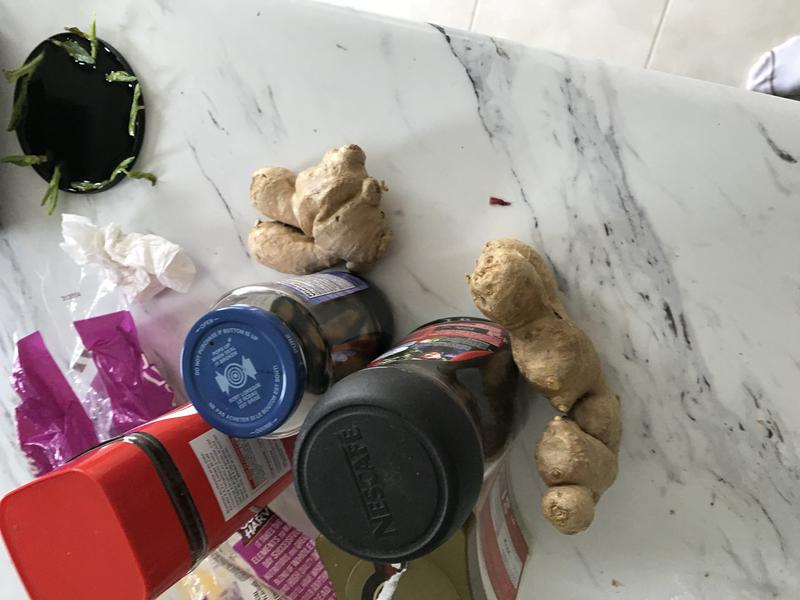ginger: (455, 228, 643, 541), (235, 136, 399, 282)
